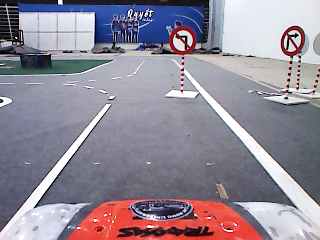ban: (169, 25, 197, 55), (280, 25, 306, 56)
